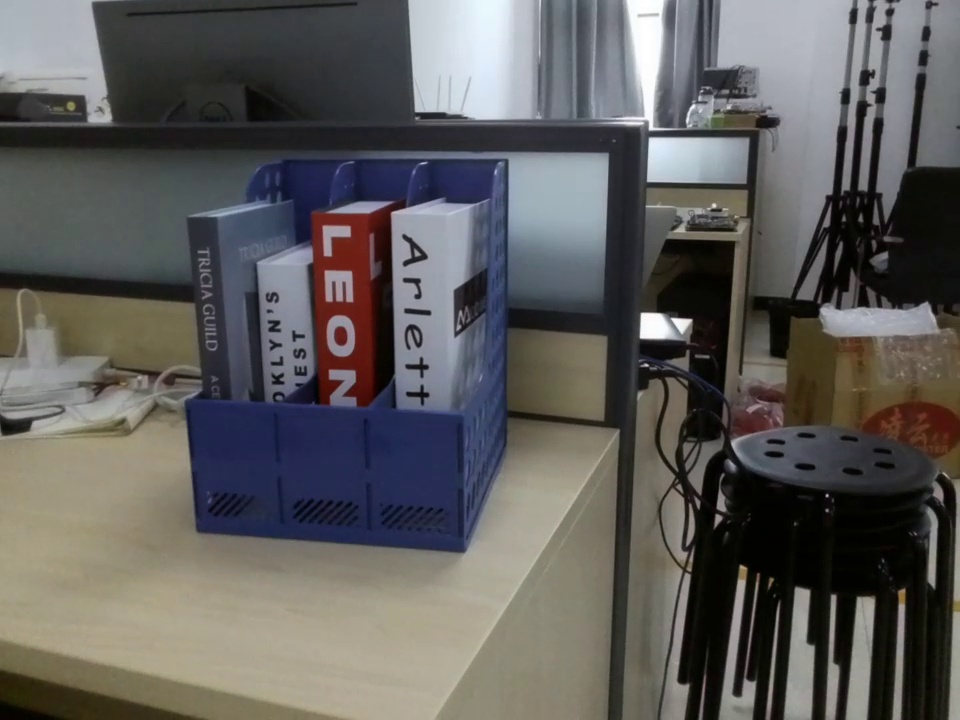files: (178, 158, 510, 561)
